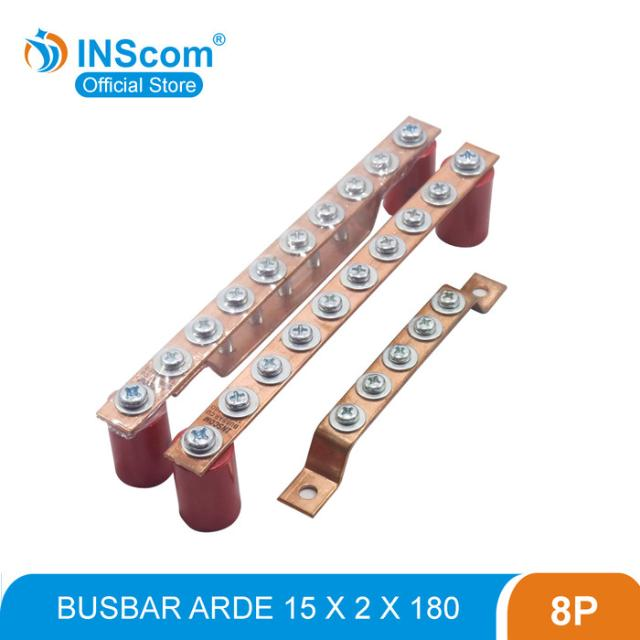busbar: (30, 108, 590, 547)
